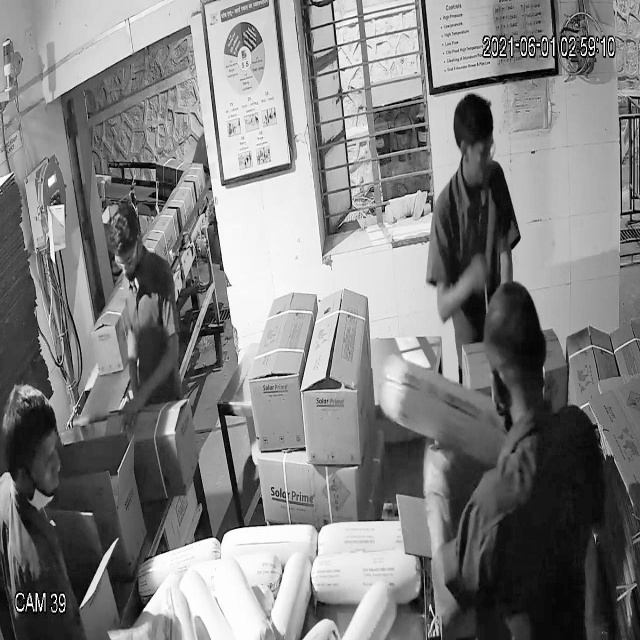Gafas: (111, 239, 144, 278)
